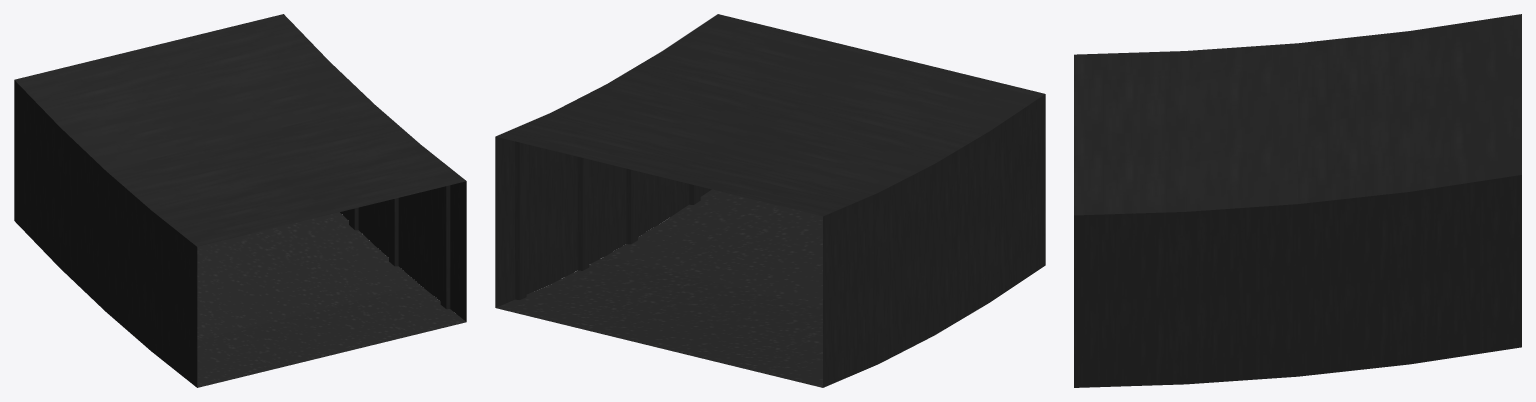
The model's file is SW_ENV_RailTunnel_Riser_A_Double_10m.fbx.
3 views of the same model, side by side, from view 1: azimuth 30°, elevation 25°; view 2: azimuth 150°, elevation 25°; view 3: azimuth 270°, elevation 25° (orthographic). The views are drawn at different scales.
Visible parts, largest first — view 1: SW_ENV_RailTunnel_Riser_A_Double_10m; view 2: SW_ENV_RailTunnel_Riser_A_Double_10m; view 3: SW_ENV_RailTunnel_Riser_A_Double_10m.
Boxes of the visible parts, x1,y1,x2,y2 form: SW_ENV_RailTunnel_Riser_A_Double_10m: (14,14,466,387); SW_ENV_RailTunnel_Riser_A_Double_10m: (495,14,1045,387); SW_ENV_RailTunnel_Riser_A_Double_10m: (1074,14,1521,387).
Size of the model in its own units: 8.5 by 5.25 by 10.
